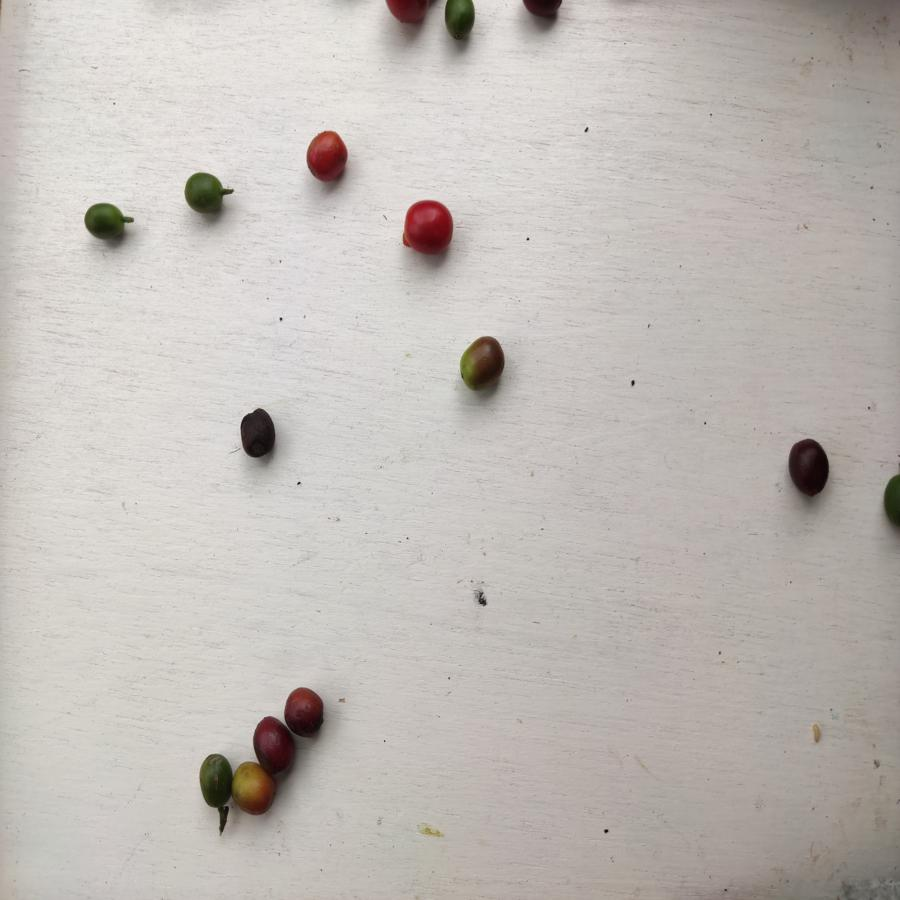Inmaduro: (182, 172, 234, 223), (193, 751, 233, 814), (83, 201, 131, 247), (445, 1, 477, 42)
Maduro: (402, 198, 456, 257), (306, 128, 349, 185), (385, 1, 423, 25)
Pinton: (459, 335, 505, 393), (232, 763, 278, 817)
Sobremaduro: (252, 715, 298, 774), (788, 439, 829, 502), (235, 407, 279, 460), (285, 687, 325, 735)
